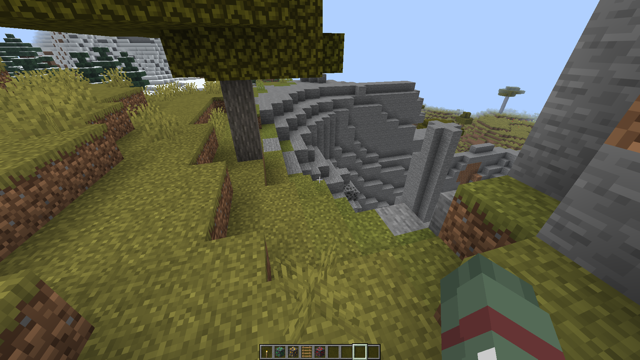coal: (343, 180, 360, 201)
